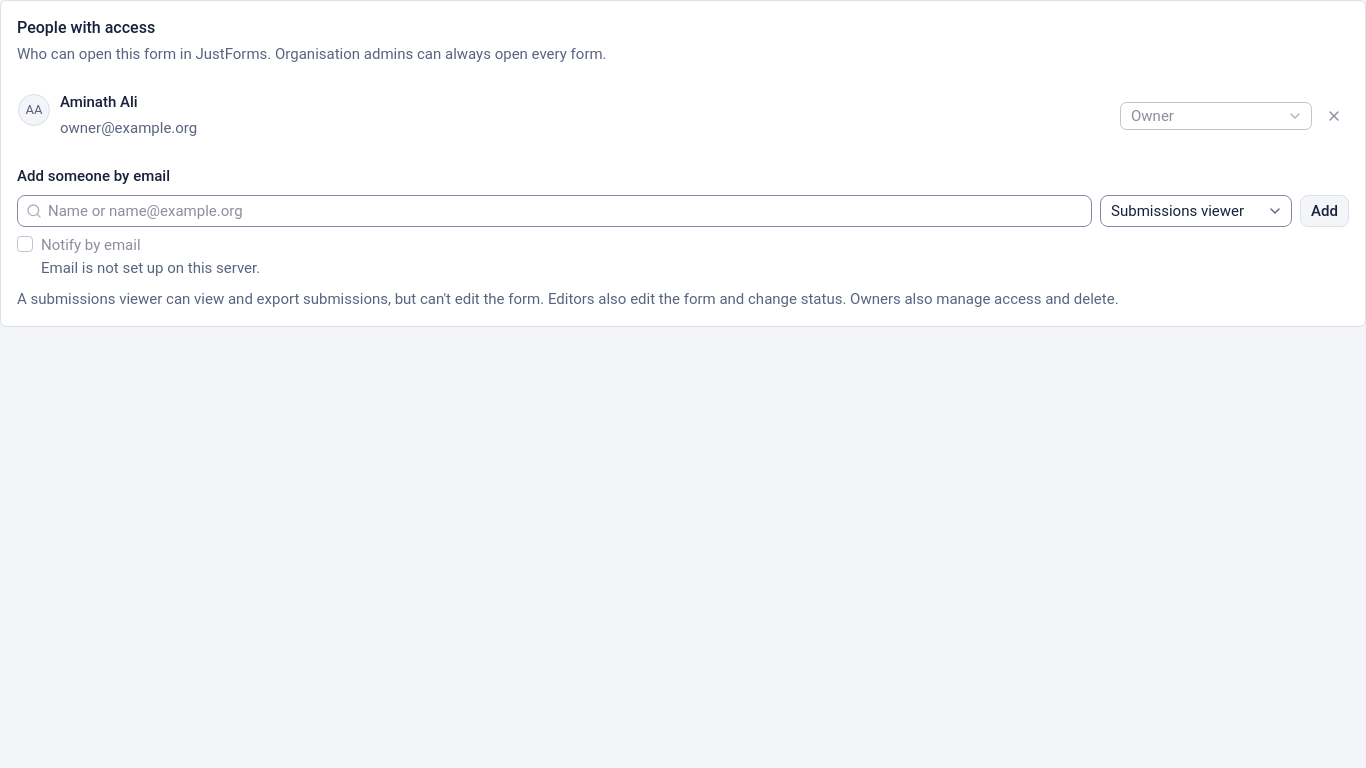
Test: Share: add someone › tells other owners to ask an admin
Type "new@example.org" into the dropdown labelled "Add someone by email" at (567, 211), box [42,200,1091,222]
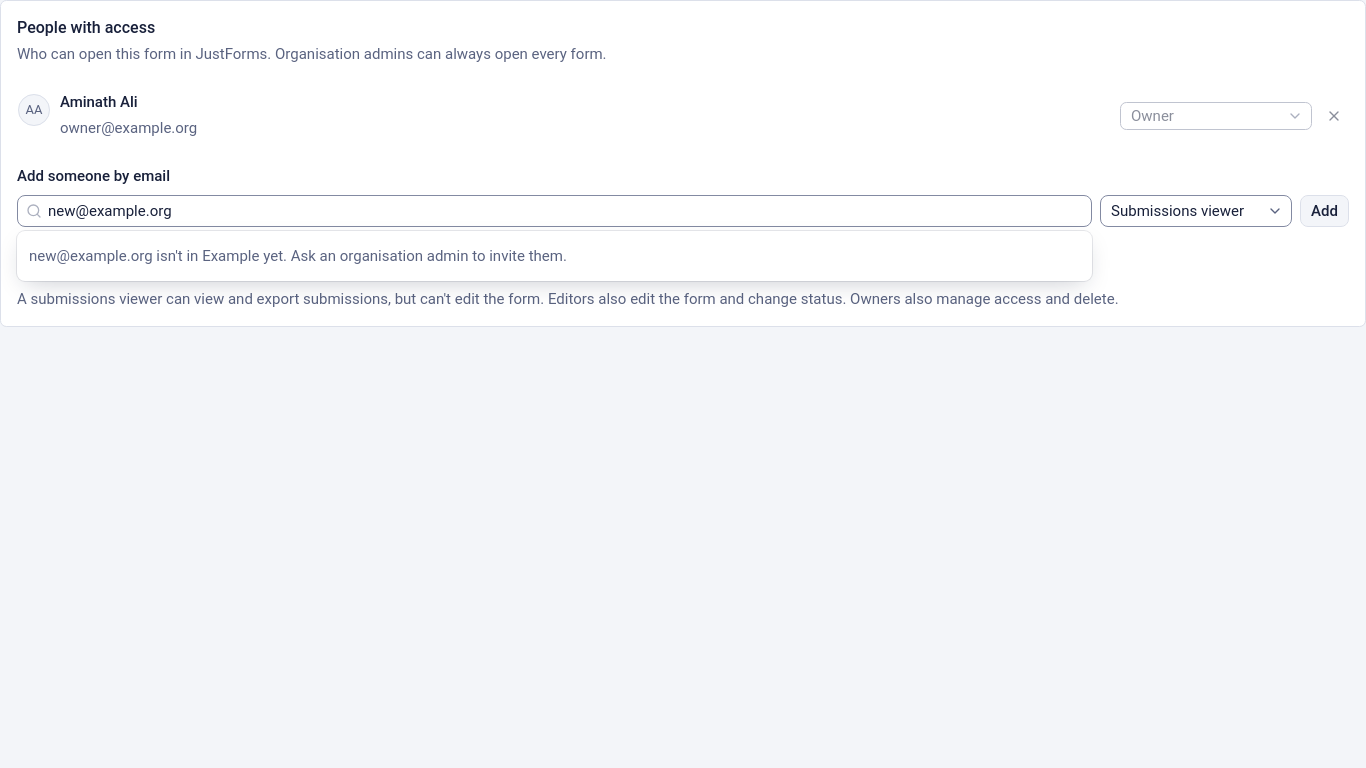
Expected: the text "new@example.org isn't in Example yet. Ask an organisation admin to invite them." is shown, [29,247,567,265]
